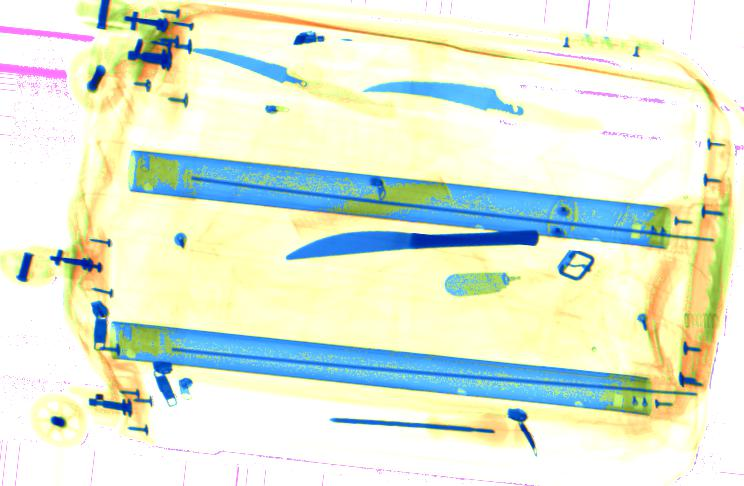KnifeCustom: (192, 48, 397, 125), (362, 82, 602, 132), (286, 229, 539, 261), (444, 268, 552, 296)
